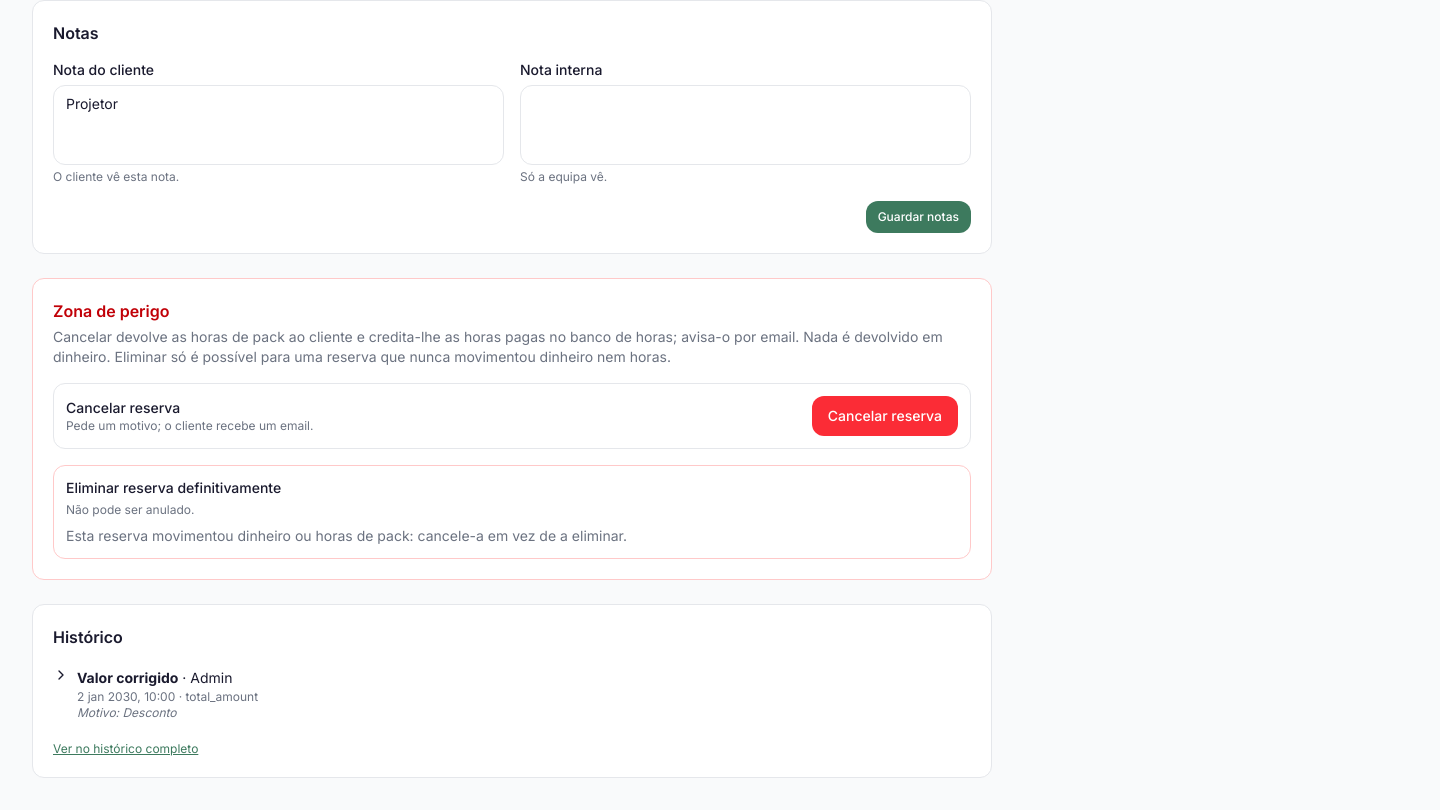
Test: Reserva › a paid booking cannot be hard-deleted; cancelling asks for a reason and credits the hours by default (K01)
The image size is (1440, 810).
(page scrolled)
Expected: the text with test id "danger-disabled" shows "cancele-a", [66,527,627,544]
Click the button "Cancelar reserva": (885, 416) [812,396,958,436]
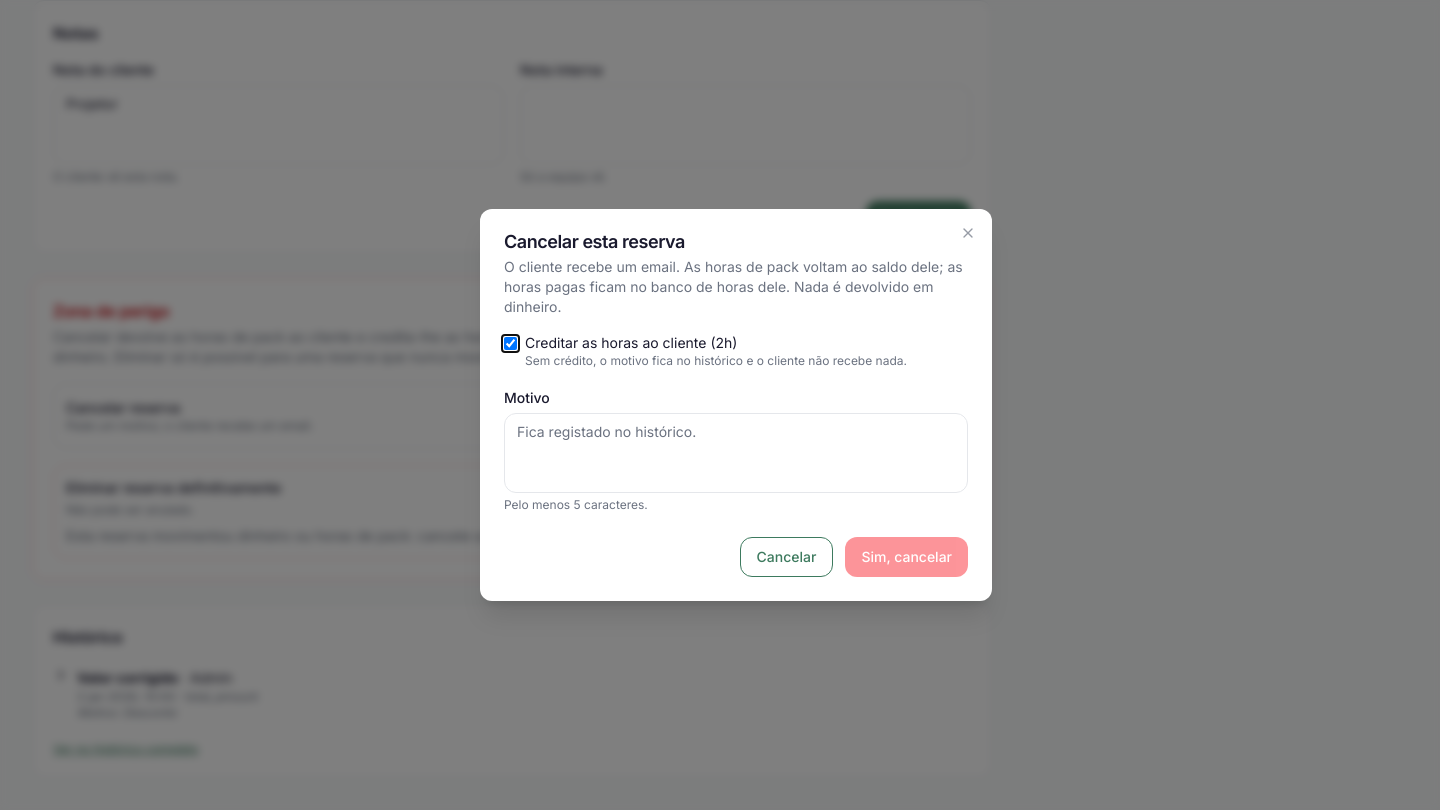
Expected: the checkbox labelled "Creditar as horas ao cliente (2h)" is checked, [504,337,517,350]
In the text box labelled "Motivo": (736, 453) [504,413,968,493], type "Cliente pediu"
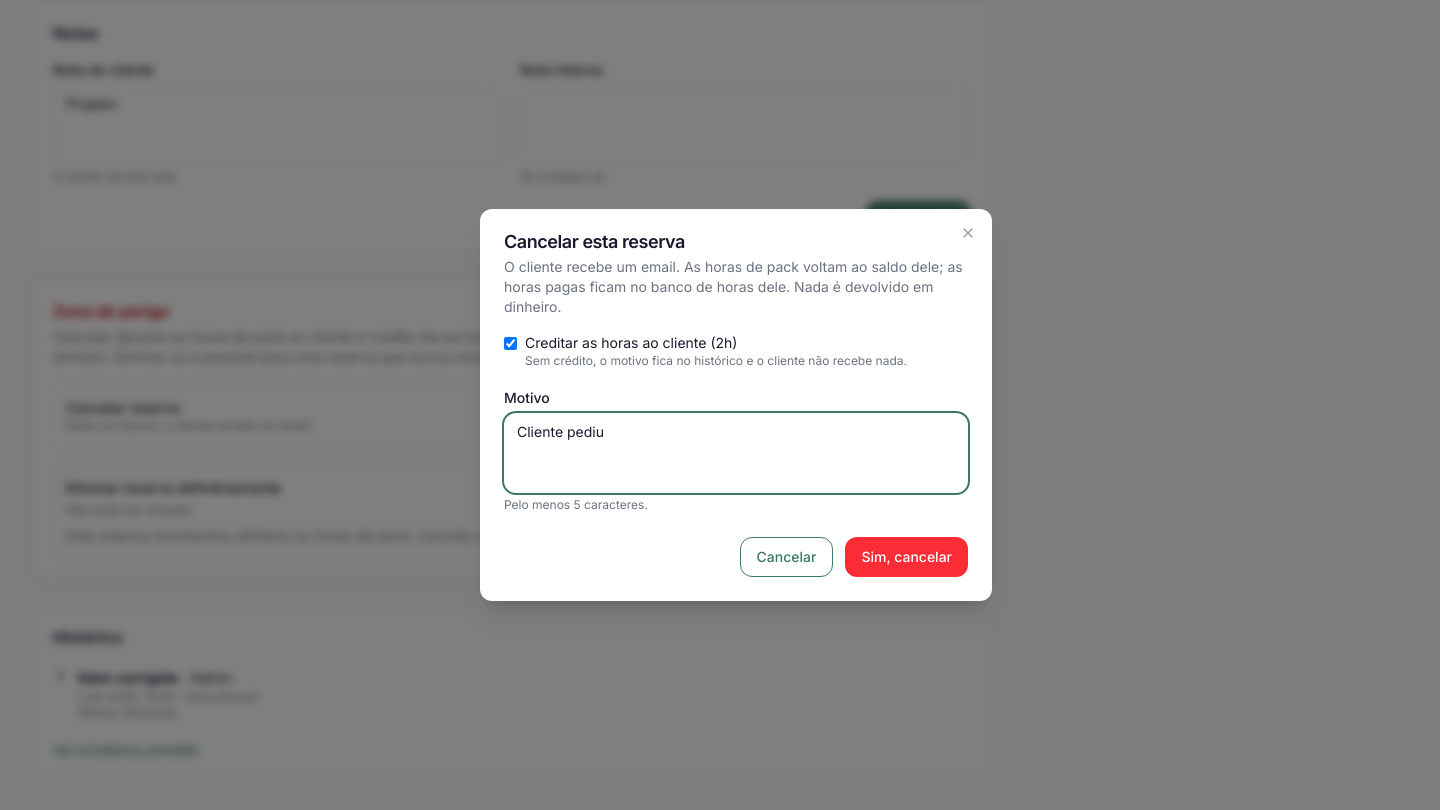
Click the button "Sim, cancelar": (907, 557) [845,537,968,577]
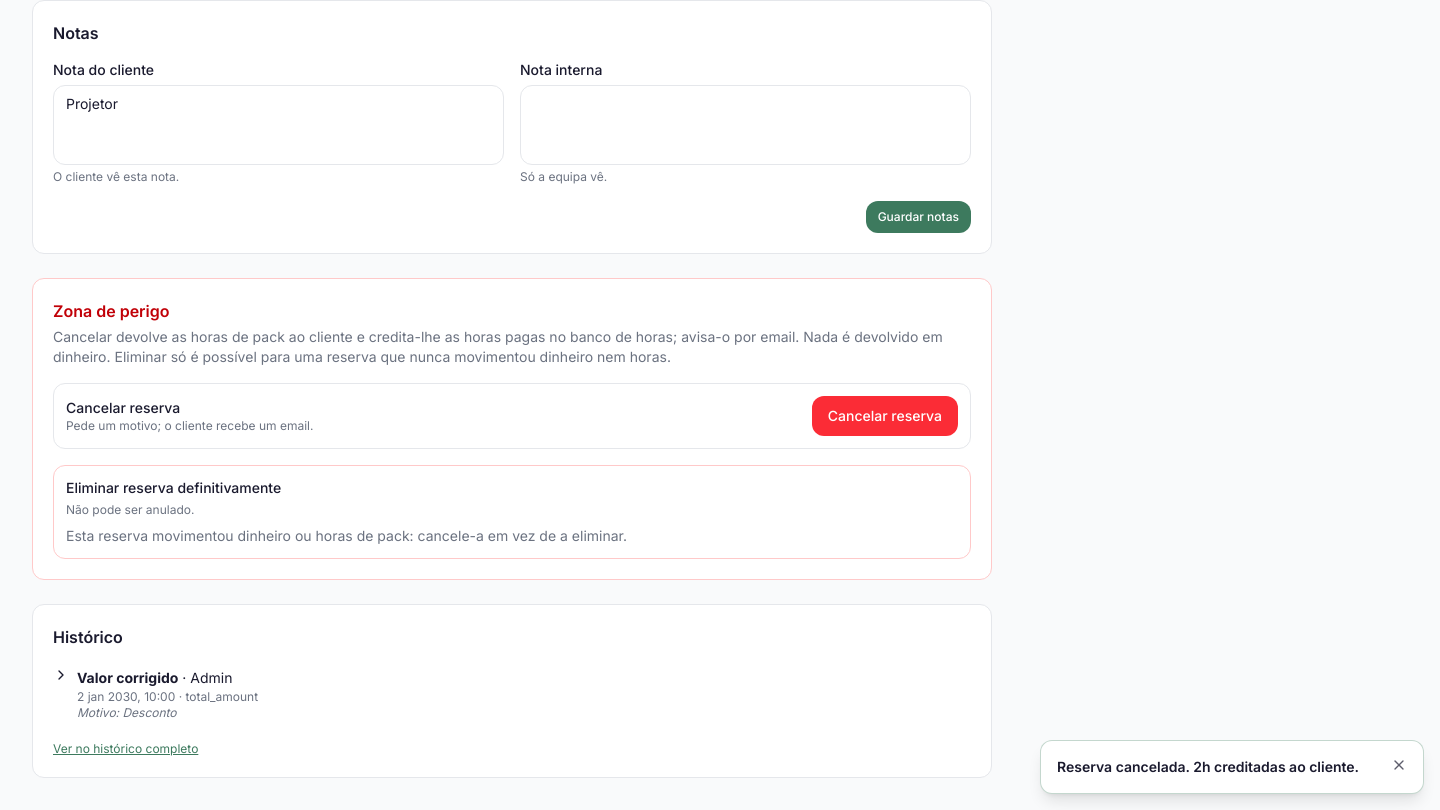
Expected: the text "Reserva cancelada. 2h creditadas ao cliente." is shown, [1057,757,1379,777]
